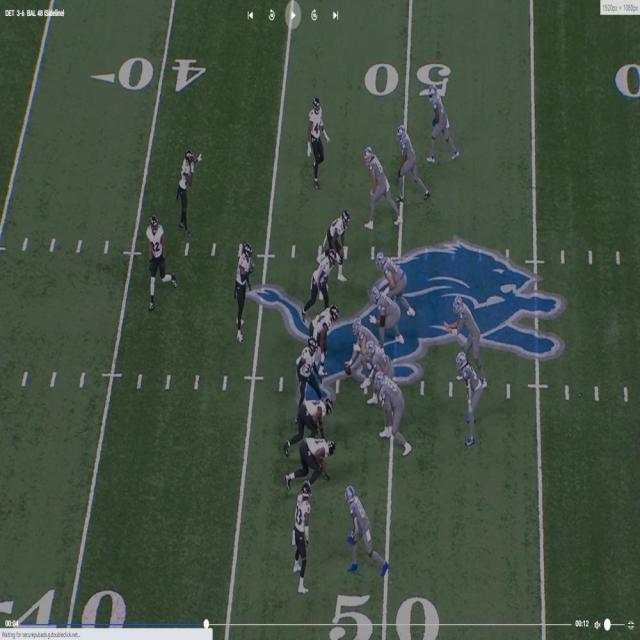center: (343, 313, 369, 374)
db: (145, 216, 177, 310), (297, 482, 314, 582), (178, 146, 194, 244), (306, 99, 324, 186), (299, 338, 316, 396)
lb: (460, 358, 483, 442), (312, 304, 338, 372), (236, 238, 253, 338), (311, 252, 335, 307)
qb: (444, 290, 480, 356)
skill: (365, 141, 397, 230), (345, 484, 376, 570), (394, 123, 425, 203), (426, 77, 455, 162)
